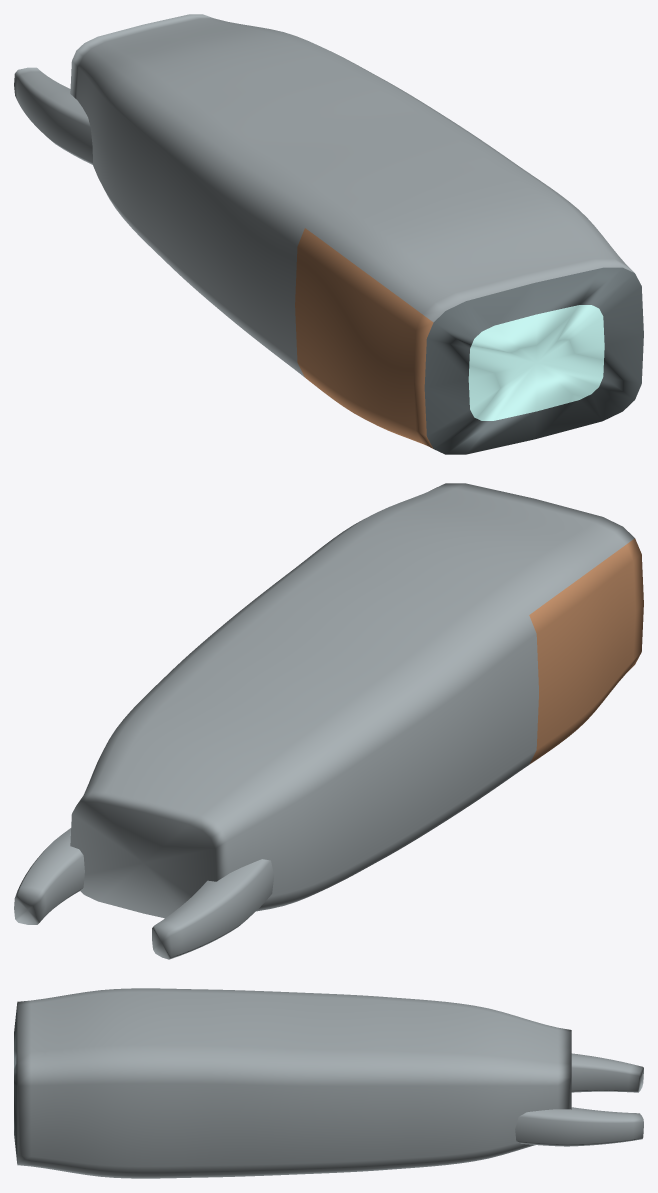
Rendered from exponent_dd.glb.
3 renders of one model, top to bottom at view 1: azimuth 30°, elevation 25°; view 2: azimuth 150°, elevation 25°; view 3: azimuth 270°, elevation 25°, orthographic. The views are drawn at different scales.
Parts seen in each view (by area): view 1: hull_mesh, limb_0_mesh; view 2: hull_mesh, limb_0_mesh, limb_0_port_mesh; view 3: hull_mesh, limb_0_port_mesh, limb_0_mesh.
Boxes of the visible parts, x1,y1,x2,y2 form: hull_mesh: (70, 14, 643, 454); limb_0_mesh: (14, 67, 92, 164); hull_mesh: (70, 483, 643, 918); limb_0_mesh: (152, 859, 273, 959); limb_0_port_mesh: (14, 828, 84, 924); hull_mesh: (14, 988, 571, 1178); limb_0_port_mesh: (515, 1107, 643, 1146); limb_0_mesh: (571, 1053, 643, 1092).
Bounding box in the file's own units: 34.82 × 25.29 × 109.
